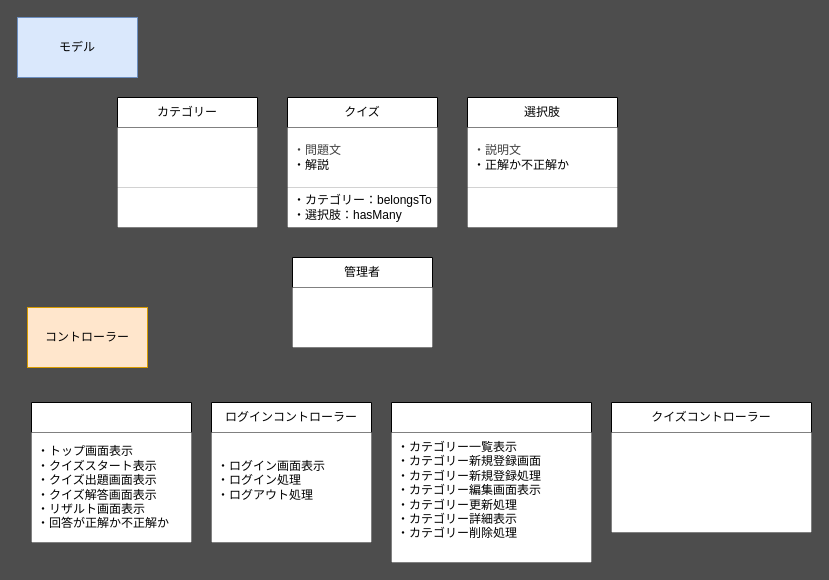
This 829x580 diagram has some shape labels left out. The box of each missing label's shape, as (x1, y1, x2, y2) in pixels:
カテゴリーコントローラー: (390, 402, 592, 562)
プレイコントローラー: (30, 402, 192, 542)
・ カテゴリー名 ・説明: (117, 127, 257, 187)
・ メールアドレス ・パスワード ・名前: (292, 287, 432, 347)
・クイズ新規登録画面表示 ・ クイズ 新規登録処理 ・ クイズ 編集画面表示 ・ クイズ更新処理 ・ クイズ削除処理: (611, 432, 811, 532)
・クイズ：belongsTo: (467, 187, 617, 227)
・クイズ：hasMany: (117, 187, 257, 227)
